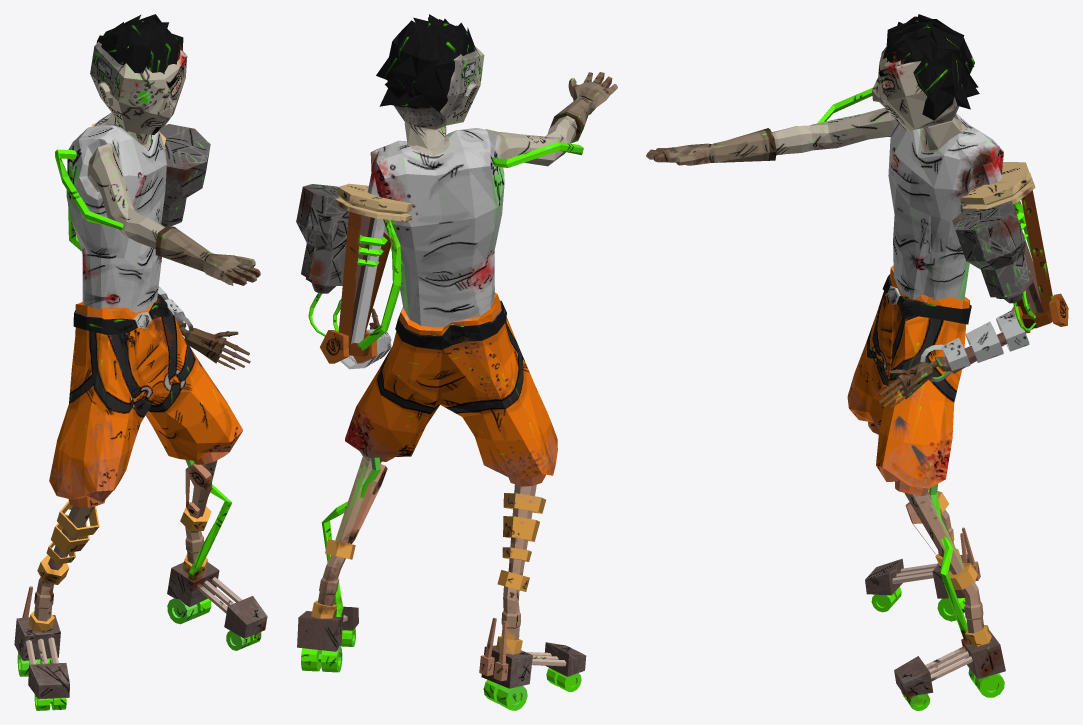
File: CyborgFINALAnimation_000013.obj
3 views of the same model, side by side, from view 1: azimuth 30°, elevation 25°; view 2: azimuth 150°, elevation 25°; view 3: azimuth 270°, elevation 25° (orthographic). The views are drawn at different scales.
Parts seen in each view (by area): view 1: CyborgMesh_Cube.002; view 2: CyborgMesh_Cube.002; view 3: CyborgMesh_Cube.002.
Part boxes in pixels (x1,y1,x2,y2): CyborgMesh_Cube.002: [14, 14, 267, 710]; CyborgMesh_Cube.002: [296, 14, 617, 710]; CyborgMesh_Cube.002: [646, 14, 1068, 710].
Bounding box in the file's own units: 3.71 × 9.49 × 5.68.
